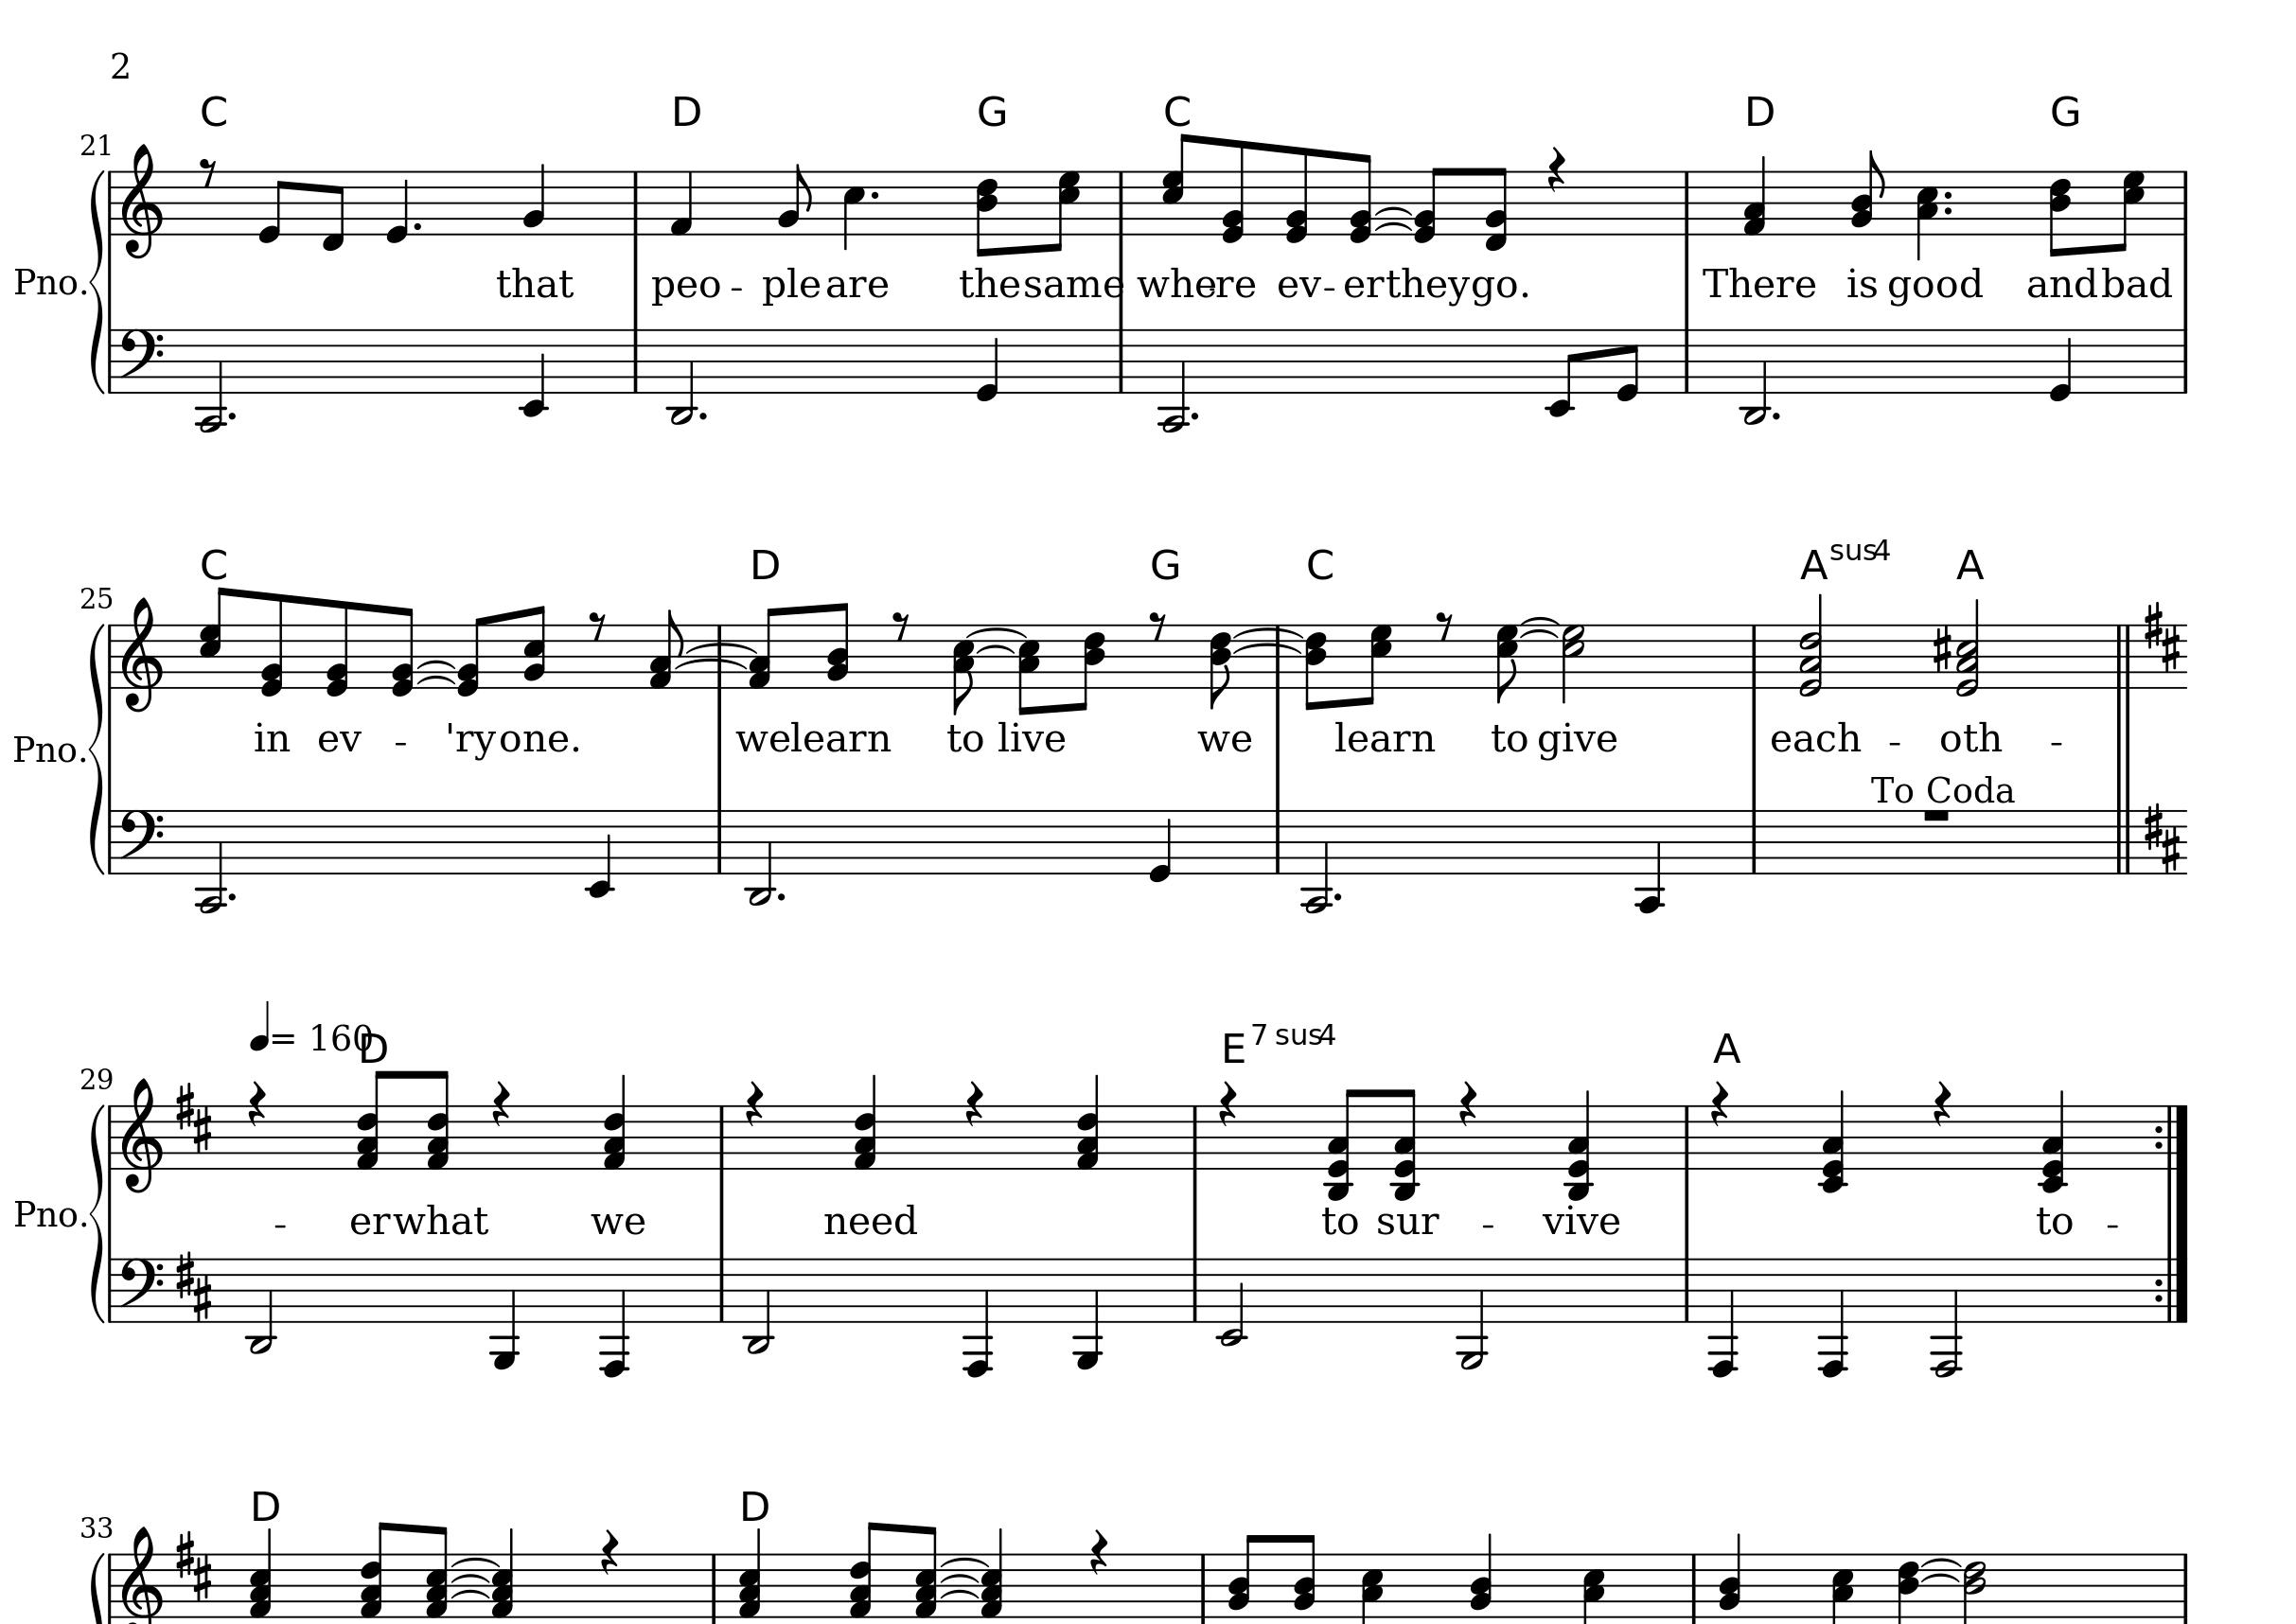0: (353, 1021, 371, 1051)
1: (309, 1019, 327, 1051), (97, 132, 111, 158)
2: (107, 49, 130, 79), (77, 132, 97, 156), (77, 1065, 97, 1090), (79, 584, 95, 610)
2_-2: (1216, 1255, 1249, 1348)
2_-3: (741, 1253, 775, 1357), (246, 1255, 278, 1355), (745, 807, 775, 907), (666, 327, 696, 425), (1739, 327, 1769, 425)
2_-4: (1158, 325, 1189, 434), (197, 807, 227, 916), (197, 327, 227, 434), (1302, 807, 1330, 916)
2_-6: (1931, 1253, 1962, 1378)
2_5_7: (1560, 622, 1586, 703)
2_th: (1799, 592, 1825, 696), (1955, 598, 1983, 694)
3: (97, 1512, 114, 1540), (79, 1513, 97, 1540)
4_-2: (585, 807, 615, 900), (520, 327, 546, 417)
4_-4: (1635, 807, 1665, 914)
4_-5: (488, 1255, 522, 1371), (1072, 1253, 1103, 1371)
4_-6: (1816, 1251, 1850, 1378), (597, 1253, 631, 1378), (961, 1253, 994, 1378), (1706, 1253, 1739, 1378), (1456, 1253, 1488, 1369)
4_0: (1147, 807, 1173, 884), (2047, 327, 2073, 402), (385, 169, 409, 244), (975, 327, 1000, 402)
4_1: (668, 169, 694, 237)
4_2: (522, 162, 546, 237)
4_2_4: (1470, 1533, 1497, 1620), (1716, 1533, 1743, 1619)
4_5: (841, 169, 866, 251)
4_th: (1563, 1086, 1595, 1204), (2038, 1086, 2069, 1195), (1818, 1086, 1848, 1193), (852, 1074, 878, 1172), (601, 1074, 627, 1172), (1075, 1074, 1101, 1171), (738, 1526, 762, 1619), (249, 1526, 274, 1617), (492, 1527, 516, 1619), (982, 1527, 1005, 1619)
5: (97, 584, 114, 610)
6: (329, 1019, 353, 1053)
8_-1: (321, 169, 348, 253)
8_-1_2: (1481, 165, 1511, 253)
8_-2: (1544, 327, 1581, 418)
8_0: (258, 169, 288, 244), (1616, 327, 1643, 402)
8_0_2: (453, 615, 490, 696), (1219, 137, 1247, 243), (325, 598, 353, 698), (1284, 144, 1310, 243), (260, 592, 285, 698), (1349, 151, 1375, 244), (1412, 163, 1442, 243), (392, 605, 416, 698)
8_1_3: (648, 610, 687, 691), (748, 606, 785, 687)
8_2: (776, 162, 812, 236)
8_2_4: (1228, 1533, 1260, 1619), (824, 601, 852, 691), (1291, 1533, 1318, 1619)
8_2_5: (518, 605, 548, 692)
8_3_5: (950, 622, 975, 717), (1017, 622, 1042, 717)
8_4_6: (1077, 622, 1107, 712), (1207, 622, 1235, 710), (1303, 622, 1330, 712), (975, 169, 1000, 258)
8_5_7: (1159, 132, 1196, 236), (195, 587, 230, 692), (1049, 170, 1082, 253), (1363, 624, 1393, 707), (1495, 622, 1520, 705)
8_th: (1323, 1086, 1367, 1200), (355, 1067, 395, 1172), (358, 1520, 399, 1620), (848, 1520, 887, 1620), (1390, 1086, 1421, 1200), (425, 1069, 453, 1172), (423, 1522, 450, 1622), (913, 1522, 940, 1620)
9: (95, 1063, 112, 1090)
Brace: (86, 620, 105, 877), (88, 165, 105, 395), (88, 1100, 105, 1323)
D_S: (174, 1531, 214, 1601), (2143, 800, 2182, 872), (174, 1079, 213, 1151), (174, 1248, 213, 1320), (2143, 599, 2182, 670)
Double_barline: (2110, 624, 2134, 687), (2110, 808, 2134, 872)
Fclef: (118, 807, 167, 877), (118, 325, 165, 395), (118, 1255, 165, 1323)
Gclef: (119, 594, 165, 712), (119, 1076, 163, 1195), (119, 142, 163, 260), (119, 1524, 163, 1622)
Pno: (12, 729, 77, 772), (12, 1195, 79, 1236), (14, 265, 77, 301)
Rests1: (1920, 805, 1952, 823)
Rests4: (488, 1079, 511, 1130), (743, 1079, 766, 1130), (1456, 1079, 1479, 1130), (1708, 1079, 1730, 1130), (1931, 1079, 1953, 1130), (963, 1079, 986, 1128), (1546, 146, 1567, 197), (246, 1077, 267, 1127), (1217, 1079, 1238, 1128), (599, 1527, 620, 1577), (1089, 1527, 1110, 1577)
Rests8: (197, 155, 221, 188), (1433, 608, 1456, 642), (587, 608, 608, 642), (891, 608, 912, 642), (1147, 608, 1168, 642)
RightRepeatSign: (2152, 1104, 2192, 1169), (2152, 1257, 2192, 1322)
Single_barline: (1267, 624, 1293, 694), (1193, 1552, 1214, 1619), (1744, 624, 1764, 687), (1744, 808, 1764, 872), (711, 1106, 731, 1167), (1186, 1106, 1205, 1167), (1678, 1106, 1697, 1167), (711, 1258, 731, 1320), (1676, 1258, 1695, 1320), (704, 1552, 722, 1619), (2177, 170, 2194, 236), (2175, 1552, 2192, 1617), (1685, 1554, 1702, 1619), (1678, 170, 1695, 234), (627, 170, 645, 234), (1678, 329, 1695, 392), (1268, 808, 1286, 872), (104, 1258, 121, 1320), (1186, 1258, 1203, 1320), (104, 1104, 119, 1169), (711, 622, 729, 680), (1114, 170, 1130, 234), (627, 329, 643, 392), (1114, 329, 1130, 392), (2177, 329, 2192, 392), (711, 808, 727, 872), (104, 170, 118, 234), (104, 624, 118, 687), (104, 808, 118, 872), (104, 329, 118, 390), (105, 1552, 119, 1613)
Slur: (689, 634, 750, 666), (1230, 638, 1305, 656), (1231, 629, 1309, 643), (675, 657, 748, 670), (963, 629, 1029, 642), (1518, 624, 1560, 642), (1518, 613, 1562, 629), (1920, 1555, 1962, 1571), (1920, 1570, 1962, 1584), (975, 642, 1015, 656), (448, 1555, 501, 1566), (938, 1555, 991, 1566), (448, 1571, 492, 1582), (1375, 220, 1412, 232), (938, 1571, 980, 1582), (416, 659, 457, 670), (450, 1587, 490, 1598), (940, 1587, 978, 1598), (1375, 206, 1412, 216), (418, 673, 455, 684)
Speed4: (249, 998, 299, 1049)
ToCoda: (1866, 772, 2018, 805)
dot: (868, 188, 882, 200), (1941, 188, 1955, 200), (411, 218, 423, 232), (775, 889, 787, 902), (1941, 204, 1955, 214), (697, 408, 708, 422), (1189, 408, 1200, 422), (227, 889, 237, 903), (1332, 889, 1342, 903), (227, 410, 237, 422), (1771, 410, 1781, 422)
